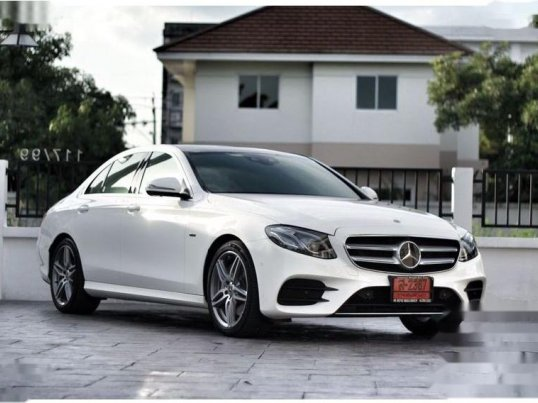sedan: (37, 145, 487, 334)
